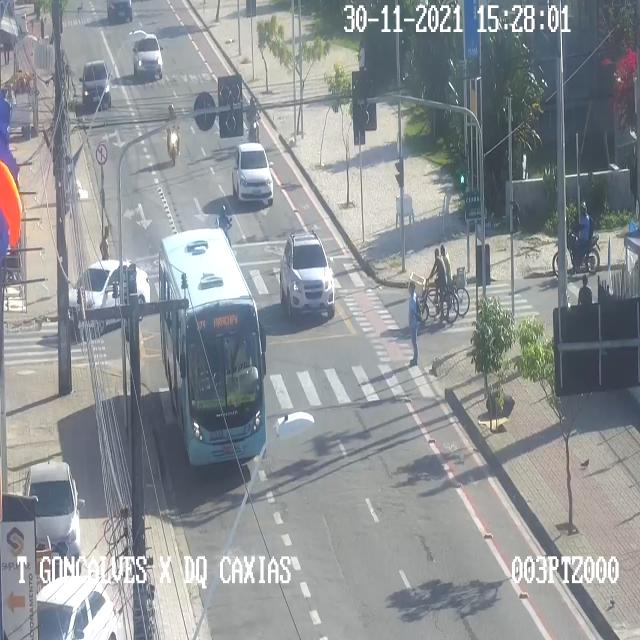Bus: (158, 228, 268, 466)
Car: (68, 260, 150, 336), (24, 461, 84, 559), (37, 577, 117, 639), (278, 231, 332, 320), (233, 142, 275, 211), (79, 60, 113, 108), (131, 33, 165, 78), (107, 0, 140, 30)
Motorcycle: (553, 200, 599, 276), (164, 105, 180, 166), (245, 100, 259, 144)
